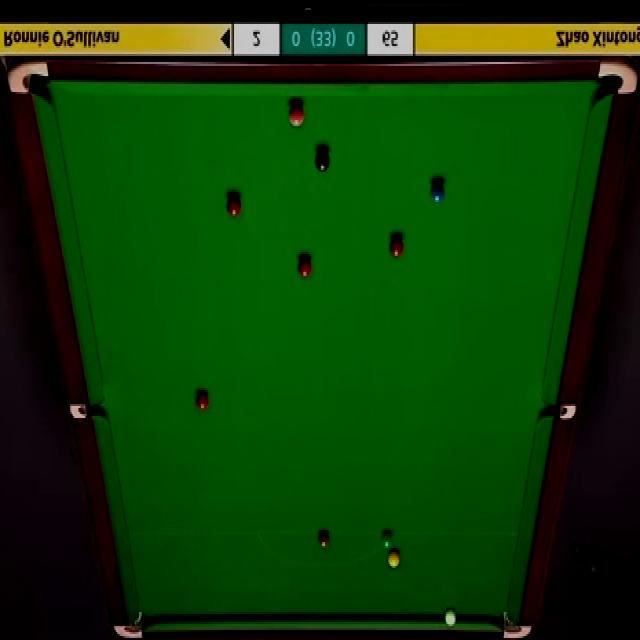pocket: (595, 55, 639, 100), (7, 61, 50, 94), (109, 606, 145, 640), (498, 608, 533, 640), (67, 405, 105, 420), (537, 405, 573, 420)
